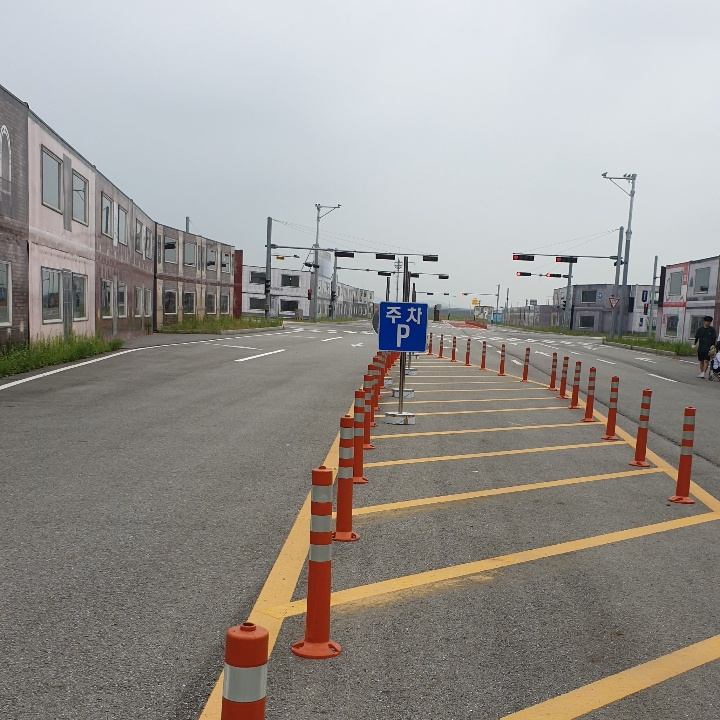parking: (391, 317, 414, 350)
